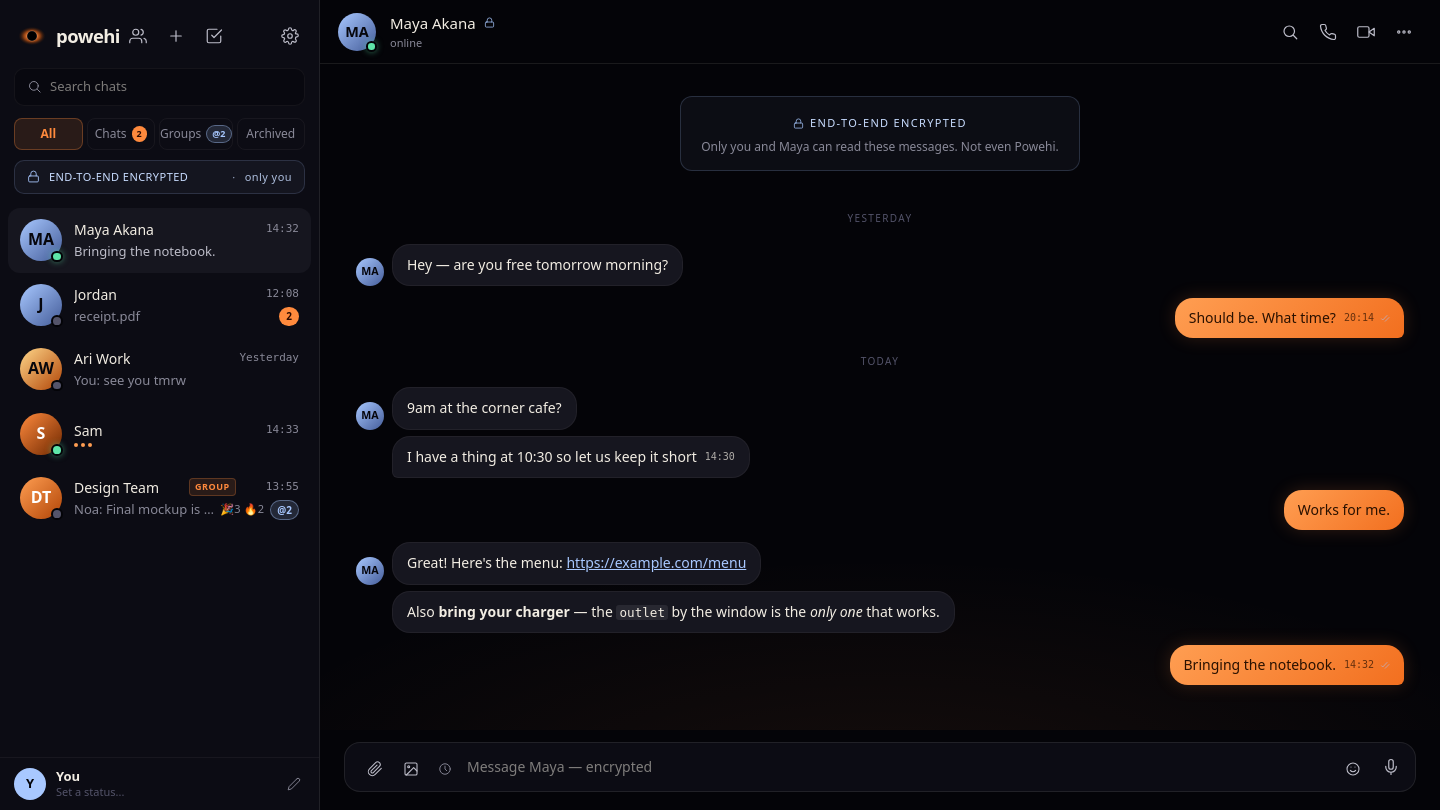
Test: ChatLayout — @mention badges in group chats › Groups tab @mention badge disappears after selecting the group
Click the button with test id "filter-tab-groups" at point(196, 134), box top-left (159, 118), bottom-right (232, 150)
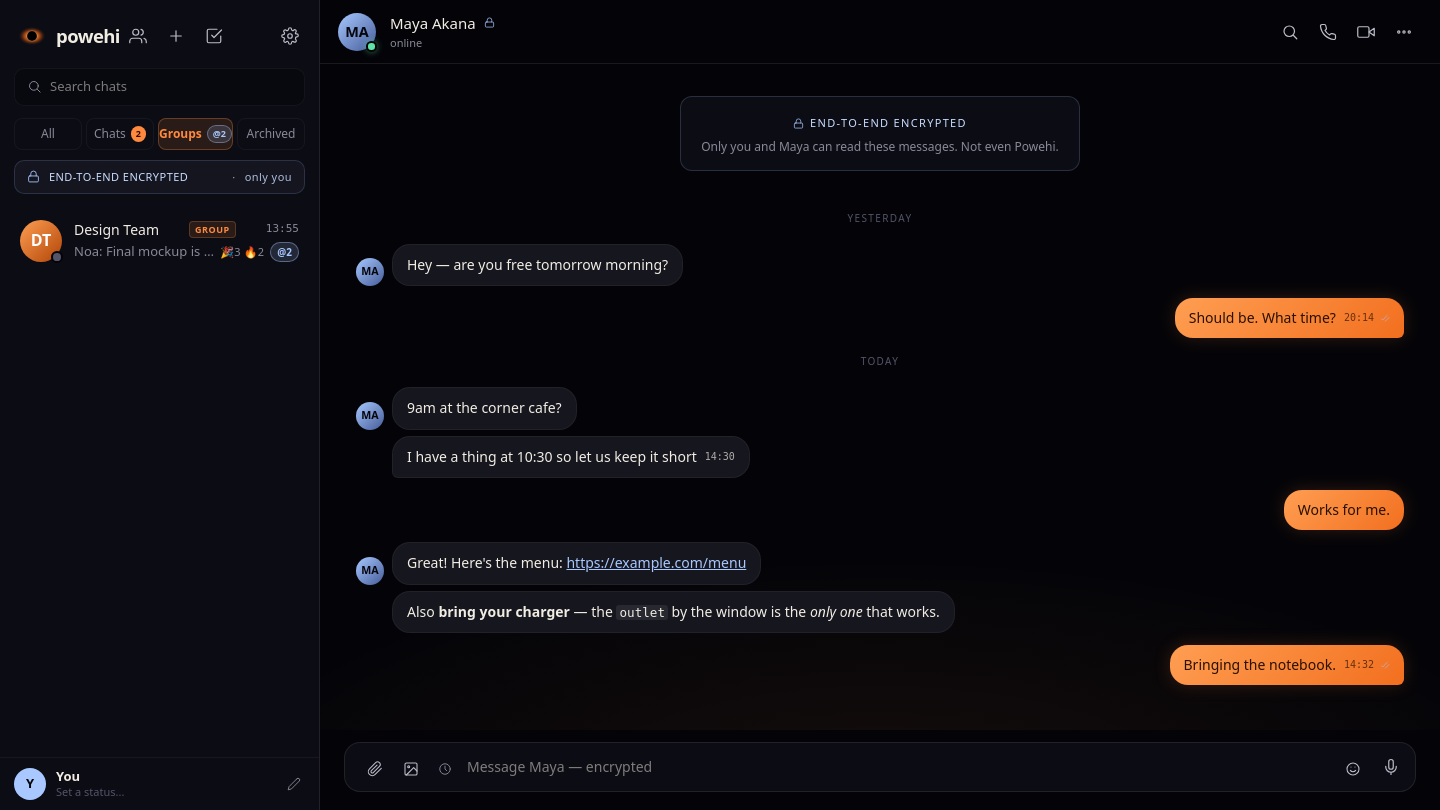
expect the text with test id "filter-tab-groups-mention-badge" is shown: met, box top-left (207, 124), bottom-right (232, 142)
# Select Design Team
Click the button "DT Design Team GROUP 13:55 Noa: Final mockup is up 🎉3 🔥2 @2" at point(160, 240), box top-left (8, 208), bottom-right (311, 273)
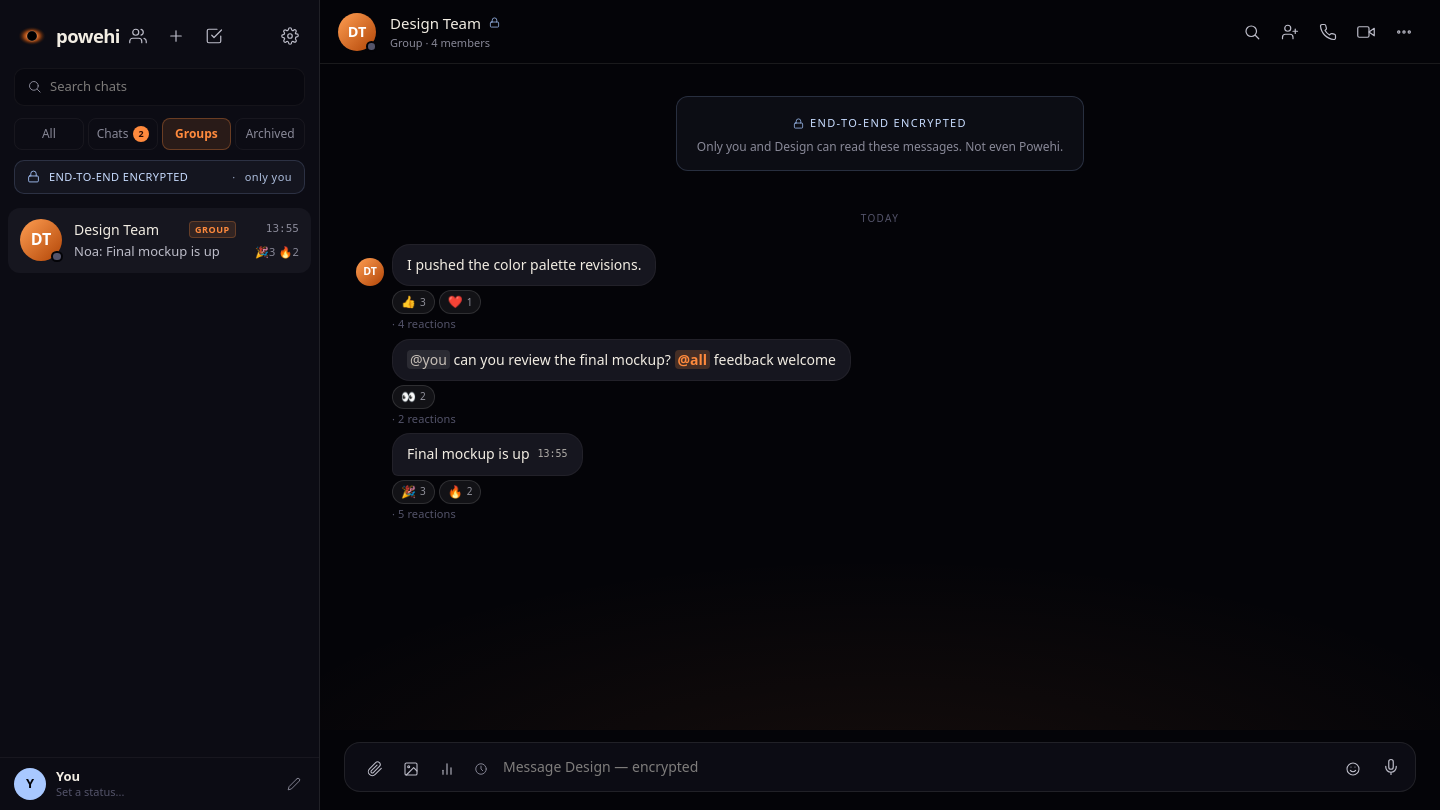
expect the text with test id "filter-tab-groups-mention-badge" is gone: met
